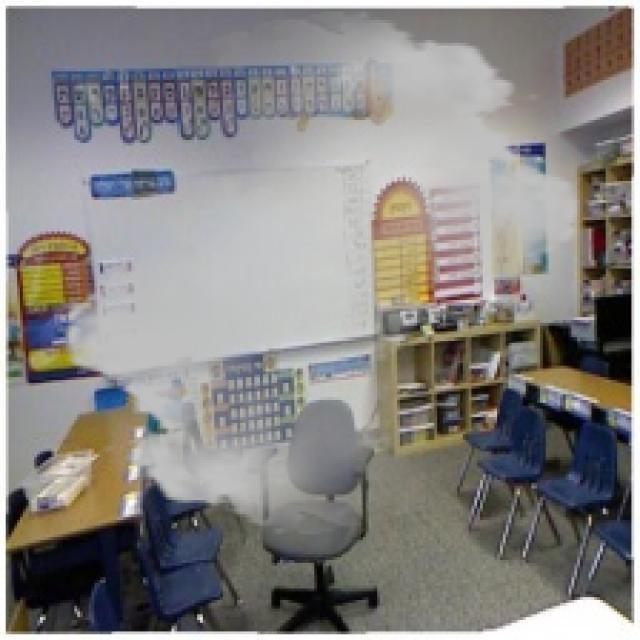smoke: (46, 12, 597, 534)
